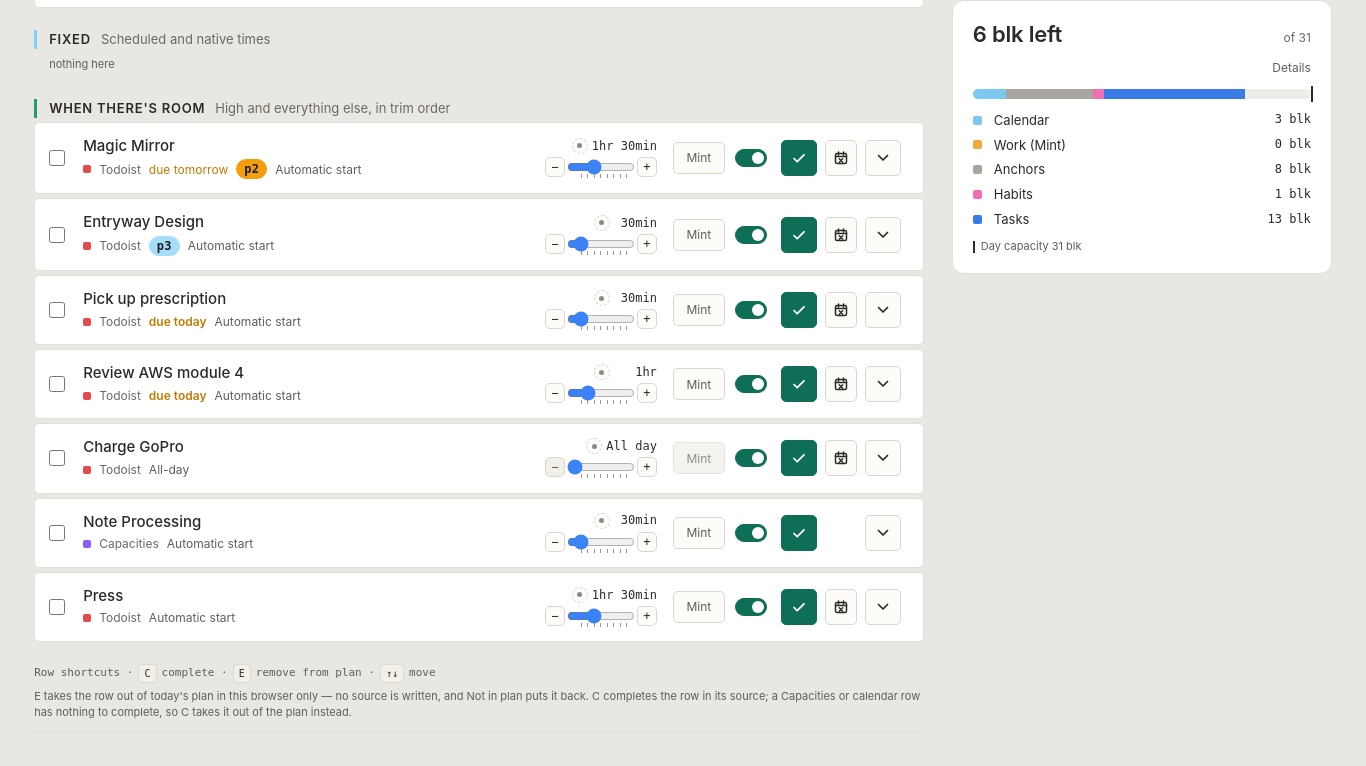
Scenario: duration slider on the row › applies exact minutes at once, updates the live label, no Save step
(page scrolled)
Click the 7th button named "Expand" at (883, 607), box x1=865 y1=589 x2=901 y2=625
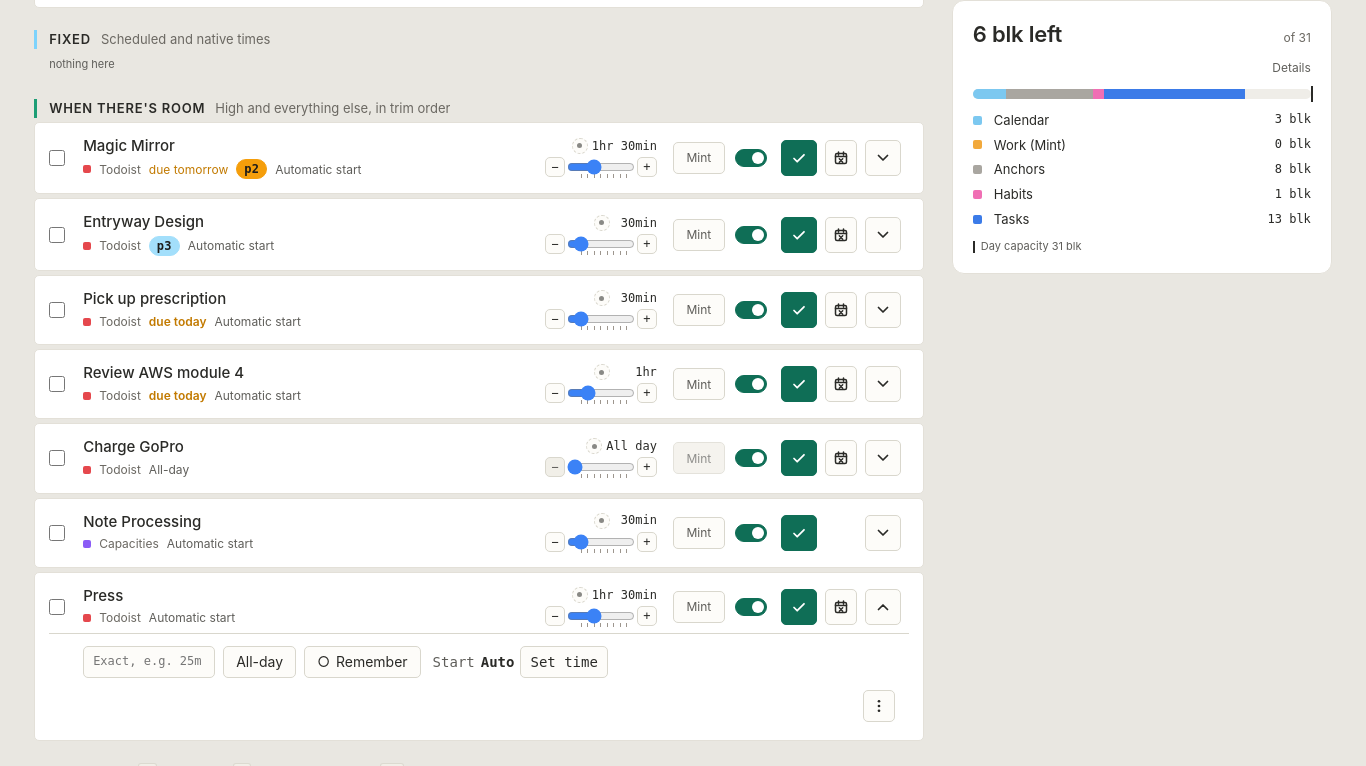
Set the 7th slider named "Duration slider" to "45" at (585, 616), box x1=567 y1=605 x2=635 y2=627
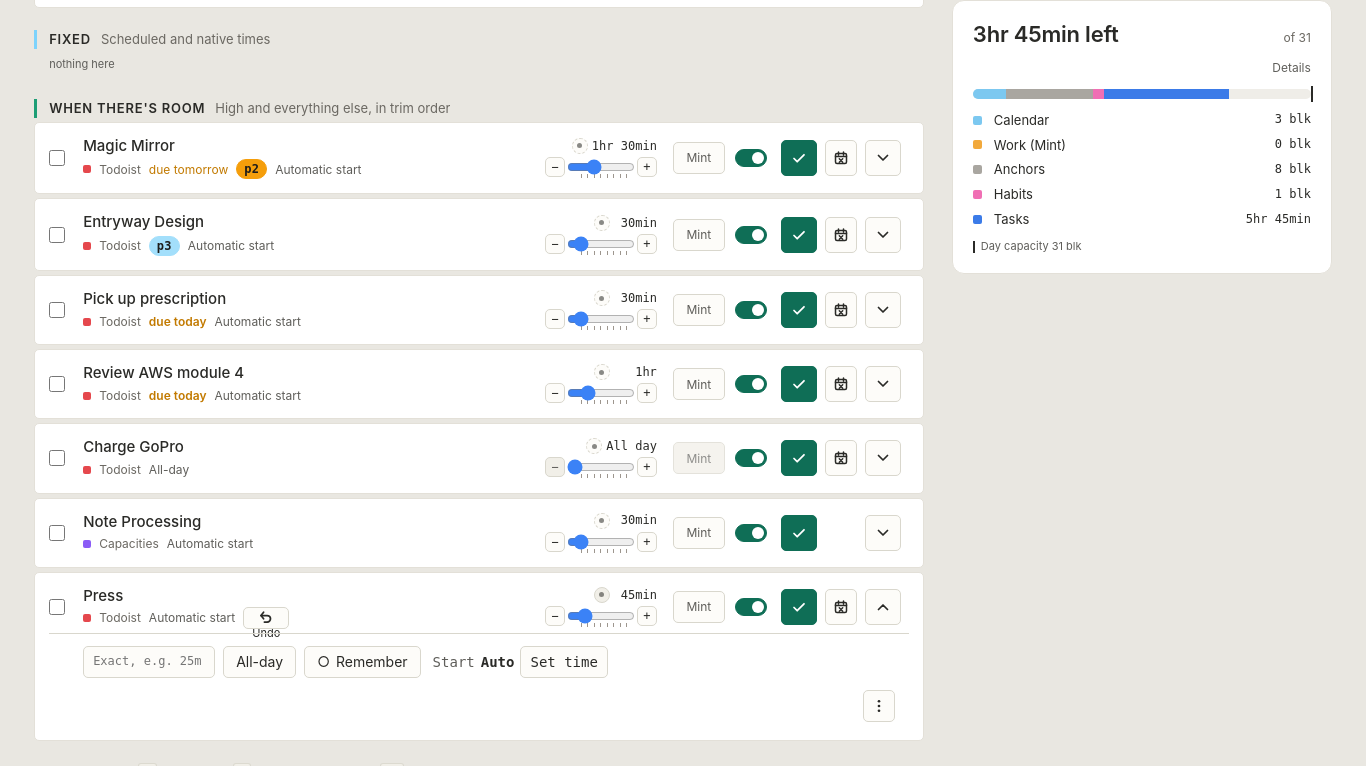
Check: the text with class "dslider__label" reads "45min", box x1=621 y1=588 x2=657 y2=602
